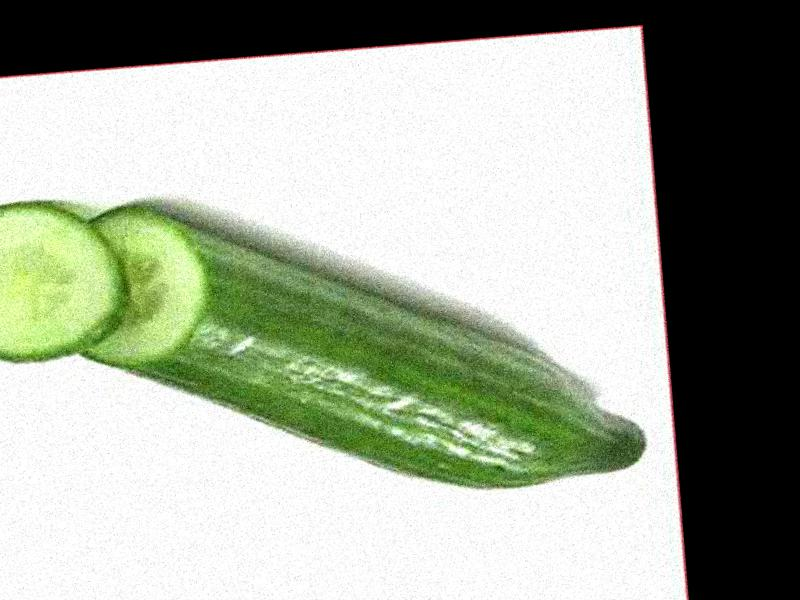Cucumber: (60, 166, 649, 520)
